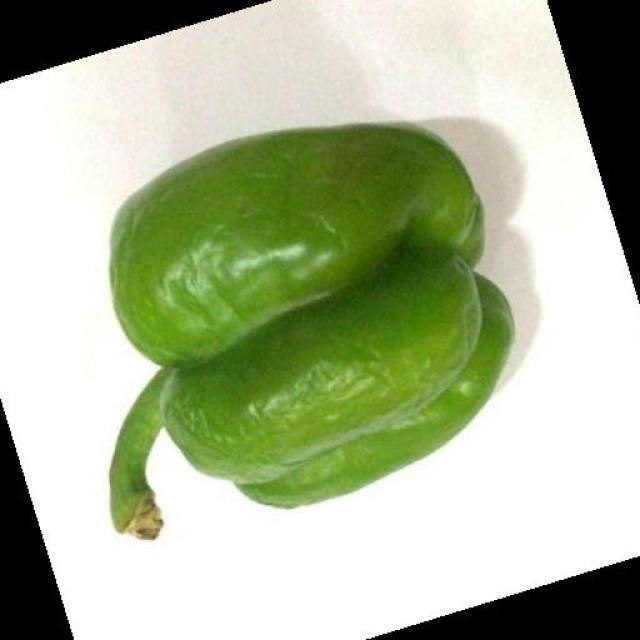Fresh_Capsicum: (93, 136, 544, 493)
